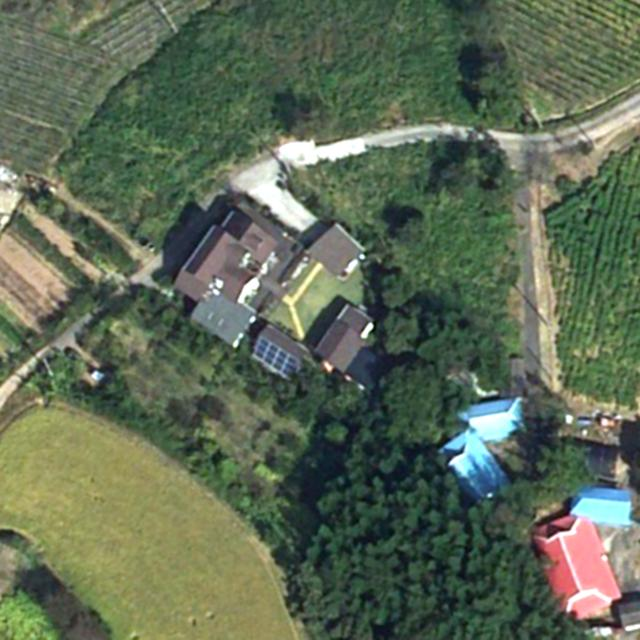panel: (251, 335, 300, 378)
